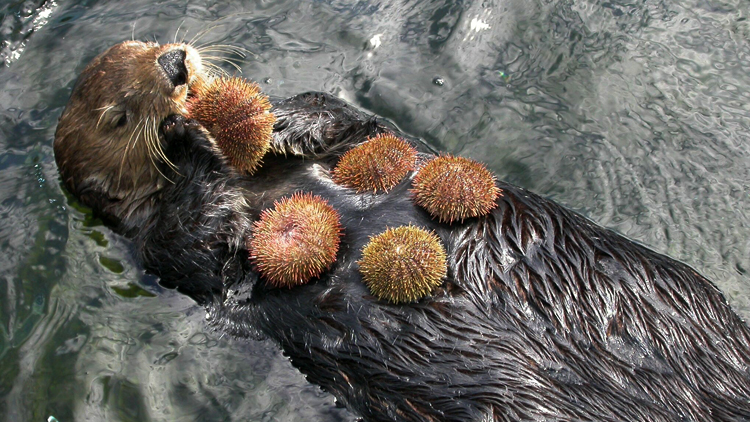otter: (38, 28, 692, 422)
